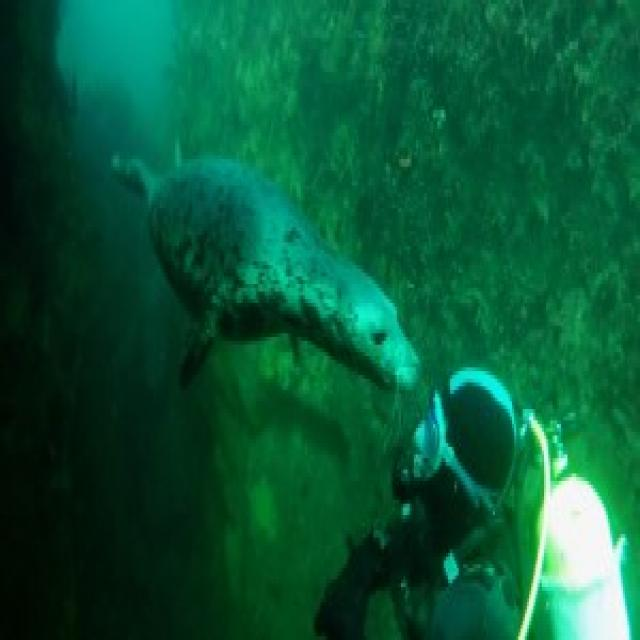Seal: (108, 147, 422, 412)
